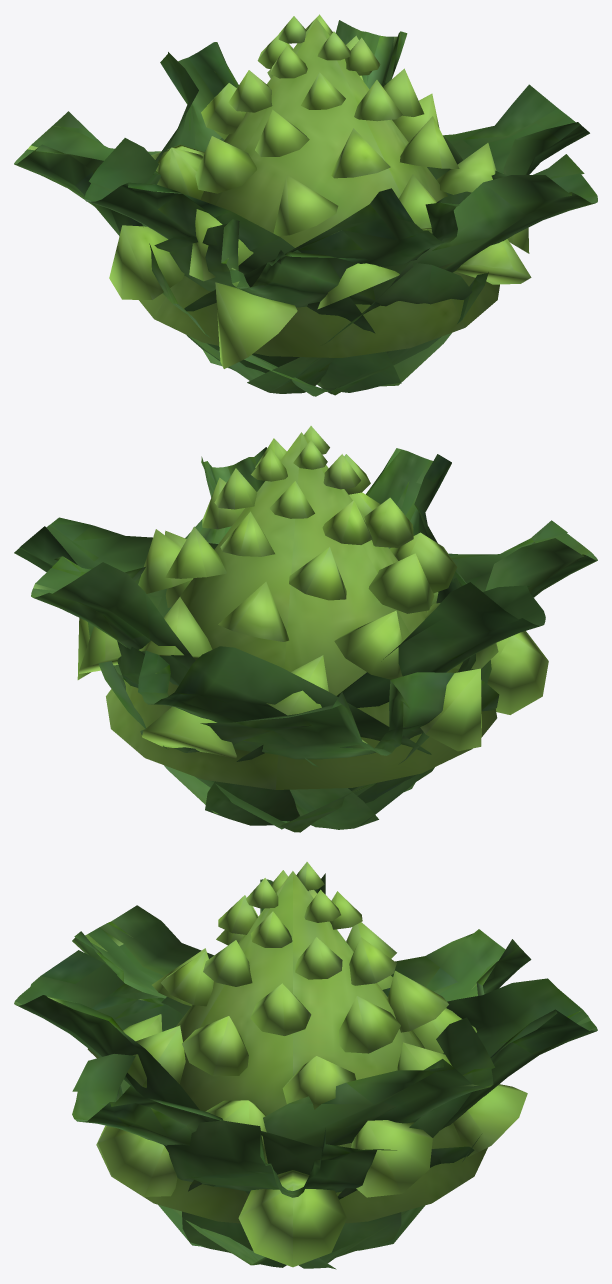
The model's file is crop_romanesco.glb.
3 views of the same model, one above another, from view 1: azimuth 30°, elevation 25°; view 2: azimuth 150°, elevation 25°; view 3: azimuth 270°, elevation 25° (orthographic). The views are drawn at different scales.
Parts seen in each view (by area): view 1: fruit, crop_romanesco; view 2: fruit, crop_romanesco; view 3: fruit, crop_romanesco.
Part boxes in pixels (bbox=[...]): fruit: bbox=[109, 14, 531, 368]; crop_romanesco: bbox=[14, 20, 597, 396]; fruit: bbox=[77, 426, 548, 789]; crop_romanesco: bbox=[14, 447, 597, 832]; fruit: bbox=[87, 862, 527, 1267]; crop_romanesco: bbox=[14, 873, 597, 1269].
Size of the model in its own units: 0.2007 by 0.1404 by 0.1931.
Materials: 1 (1 with a texture image).
